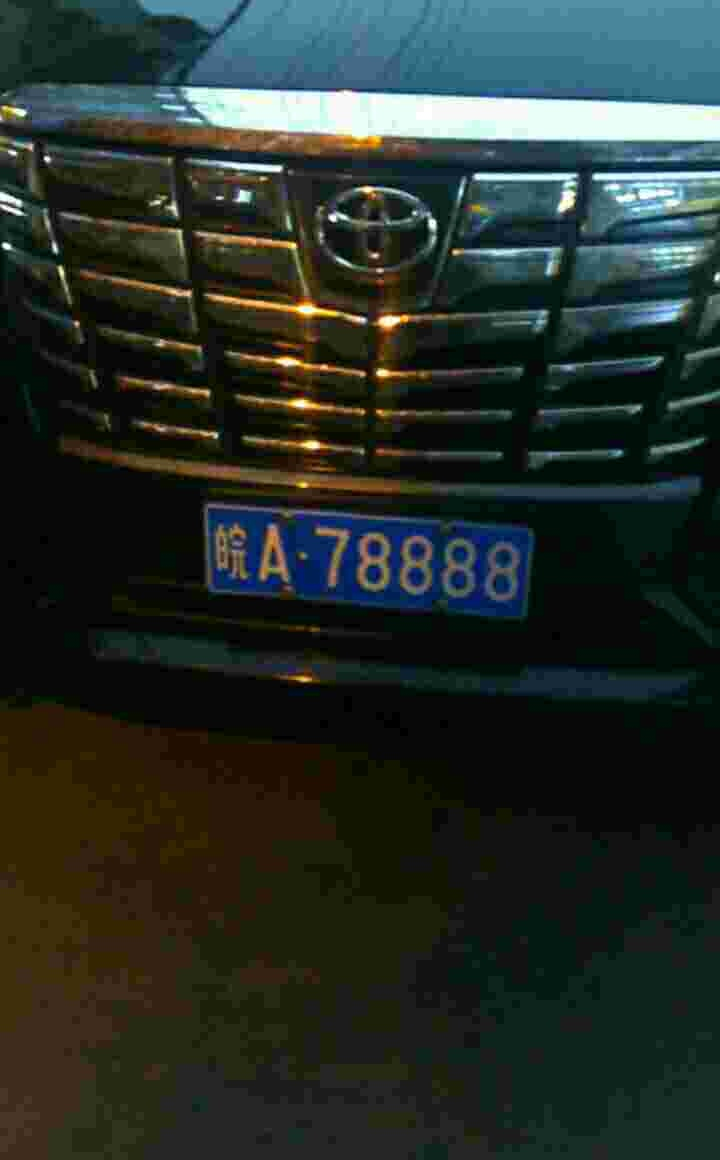license_plate: (211, 500, 545, 622)
